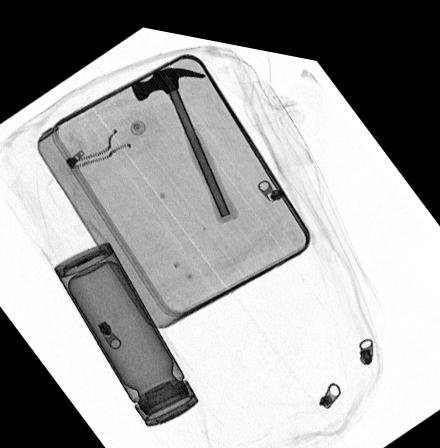Hammer: (129, 58, 238, 216)
